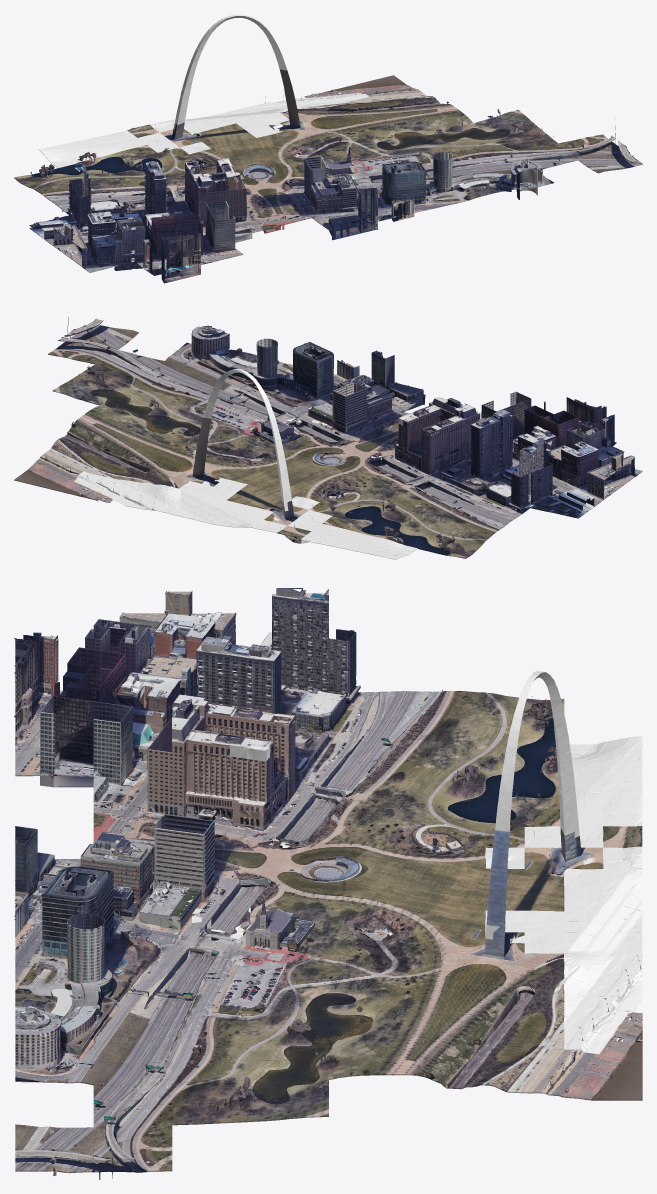
File: other_gateway.glb
3 renders of one model, top to bottom at view 1: azimuth 30°, elevation 25°; view 2: azimuth 150°, elevation 25°; view 3: azimuth 270°, elevation 25°, orthographic. The views are drawn at different scales.
Parts seen in each view (by area): view 1: BuildingMesh-00126, BuildingMesh-00146, BuildingMesh-00149, BuildingMesh-00153, BuildingMesh-00151, BuildingMesh-00144, BuildingMesh-00135, BuildingMesh-00132, BuildingMesh-00147, BuildingMesh-00160, BuildingMesh-00098, BuildingMesh-00111 (+56 smaller); view 2: BuildingMesh-00090, BuildingMesh-00114, BuildingMesh-00077, BuildingMesh-00118, BuildingMesh-00133, BuildingMesh-00160, BuildingMesh-00132, BuildingMesh-00126, BuildingMesh-00136, BuildingMesh-00078, BuildingMesh-00149, BuildingMesh-00091 (+70 smaller); view 3: BuildingMesh-00135, BuildingMesh-00151, BuildingMesh-00136, BuildingMesh-00114, BuildingMesh-00077, BuildingMesh-00160, BuildingMesh-00153, BuildingMesh-00096, BuildingMesh-00095, BuildingMesh-00090, BuildingMesh-00115, BuildingMesh-00043 (+94 smaller).
Part boxes in pixels (bbox=[...]): BuildingMesh-00126: bbox=[70, 218, 134, 272]; BuildingMesh-00146: bbox=[134, 224, 198, 283]; BuildingMesh-00149: bbox=[312, 183, 376, 239]; BuildingMesh-00153: bbox=[401, 157, 464, 211]; BuildingMesh-00151: bbox=[180, 211, 243, 274]; BuildingMesh-00144: bbox=[357, 165, 417, 229]; BuildingMesh-00135: bbox=[203, 183, 267, 242]; BuildingMesh-00132: bbox=[292, 164, 355, 217]; BuildingMesh-00147: bbox=[134, 220, 198, 279]; BuildingMesh-00160: bbox=[492, 160, 554, 199]; BuildingMesh-00098: bbox=[410, 106, 473, 136]; BuildingMesh-00111: bbox=[474, 109, 537, 139]; BuildingMesh-00090: bbox=[388, 424, 450, 488]; BuildingMesh-00114: bbox=[318, 385, 381, 445]; BuildingMesh-00077: bbox=[461, 470, 530, 522]; BuildingMesh-00118: bbox=[552, 445, 619, 502]; BuildingMesh-00133: bbox=[241, 345, 305, 408]; BuildingMesh-00160: bbox=[165, 325, 233, 370]; BuildingMesh-00132: bbox=[342, 375, 403, 428]; BuildingMesh-00126: bbox=[574, 425, 642, 486]; BuildingMesh-00136: bbox=[287, 355, 353, 413]; BuildingMesh-00078: bbox=[57, 418, 126, 454]; BuildingMesh-00149: bbox=[357, 351, 425, 411]; BuildingMesh-00091: bbox=[435, 442, 503, 495]; BuildingMesh-00135: bbox=[93, 714, 172, 818]; BuildingMesh-00151: bbox=[14, 671, 93, 787]; BuildingMesh-00136: bbox=[93, 854, 172, 952]; BuildingMesh-00114: bbox=[171, 815, 250, 916]; BuildingMesh-00077: bbox=[328, 629, 407, 738]; BuildingMesh-00160: bbox=[15, 1006, 93, 1085]; BuildingMesh-00153: bbox=[15, 883, 93, 988]; BuildingMesh-00096: bbox=[250, 756, 328, 866]; BuildingMesh-00095: bbox=[272, 631, 329, 732]; BuildingMesh-00090: bbox=[250, 728, 328, 829]; BuildingMesh-00115: bbox=[172, 725, 250, 820]; BuildingMesh-00043: bbox=[485, 922, 564, 1005].
Size of the model in its own units: 0.3637 by 0.0856 by 0.1899.
100 materials, 99 textured.
